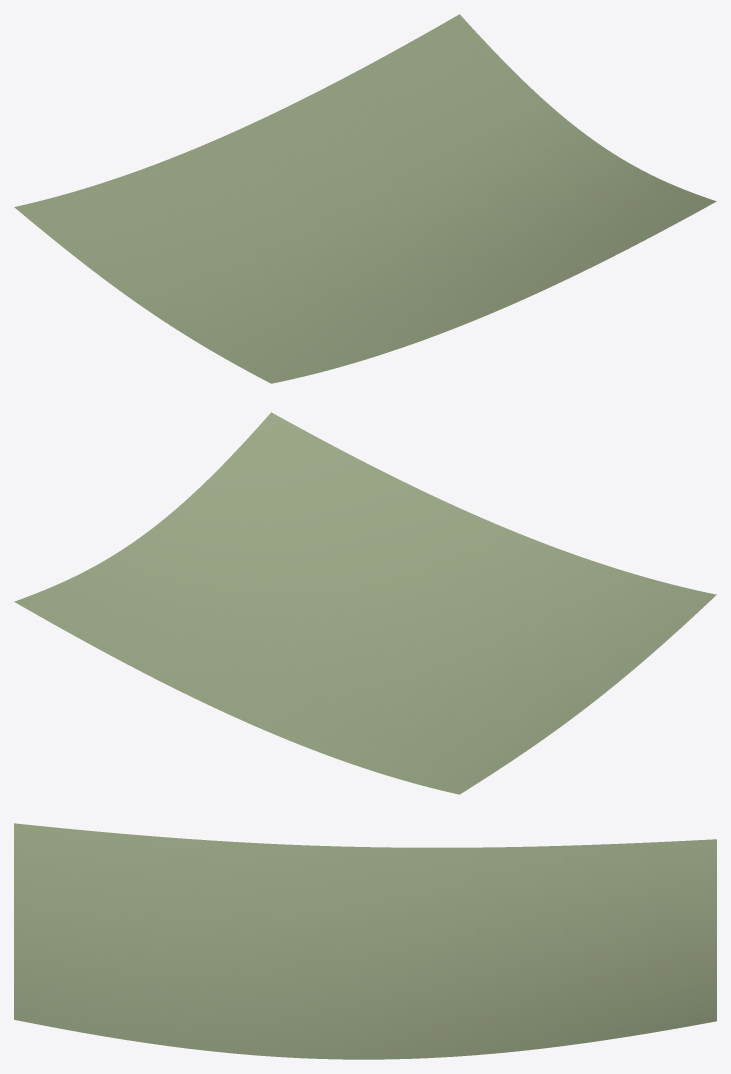
Rendered from expanse-24-10.glb.
3 renders of one model, top to bottom at view 1: azimuth 30°, elevation 25°; view 2: azimuth 150°, elevation 25°; view 3: azimuth 270°, elevation 25°, orthographic. The views are drawn at different scales.
Parts seen in each view (by area): view 1: expanse-24-10; view 2: expanse-24-10; view 3: expanse-24-10.
Part boxes in pixels (left/top/right/bottom): expanse-24-10: left=14, top=14, right=716, bottom=383; expanse-24-10: left=14, top=412, right=716, bottom=794; expanse-24-10: left=14, top=823, right=716, bottom=1059.
Bounding box in the file's own units: 256 × 51.18 × 256.
